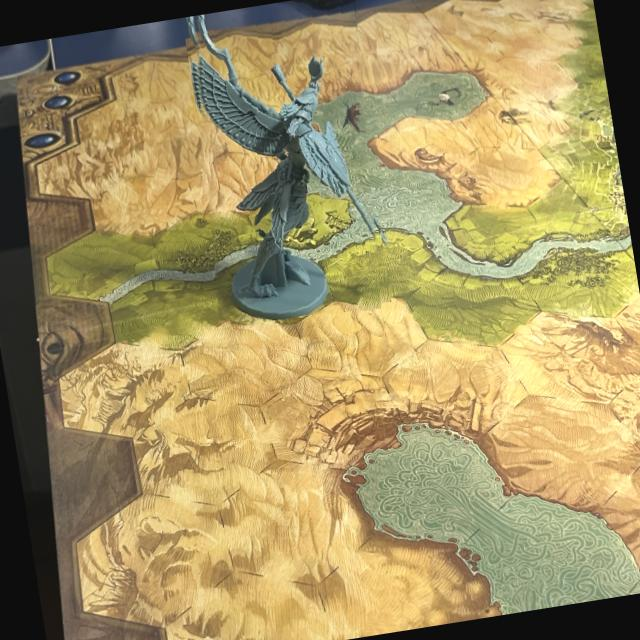isis: (176, 0, 397, 330)
